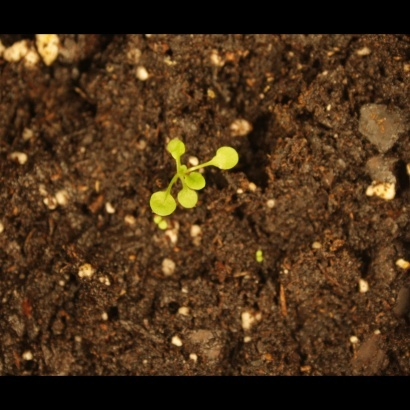leaf: (146, 188, 180, 222), (160, 128, 193, 163), (212, 146, 244, 174), (178, 186, 201, 216), (185, 168, 208, 196)
